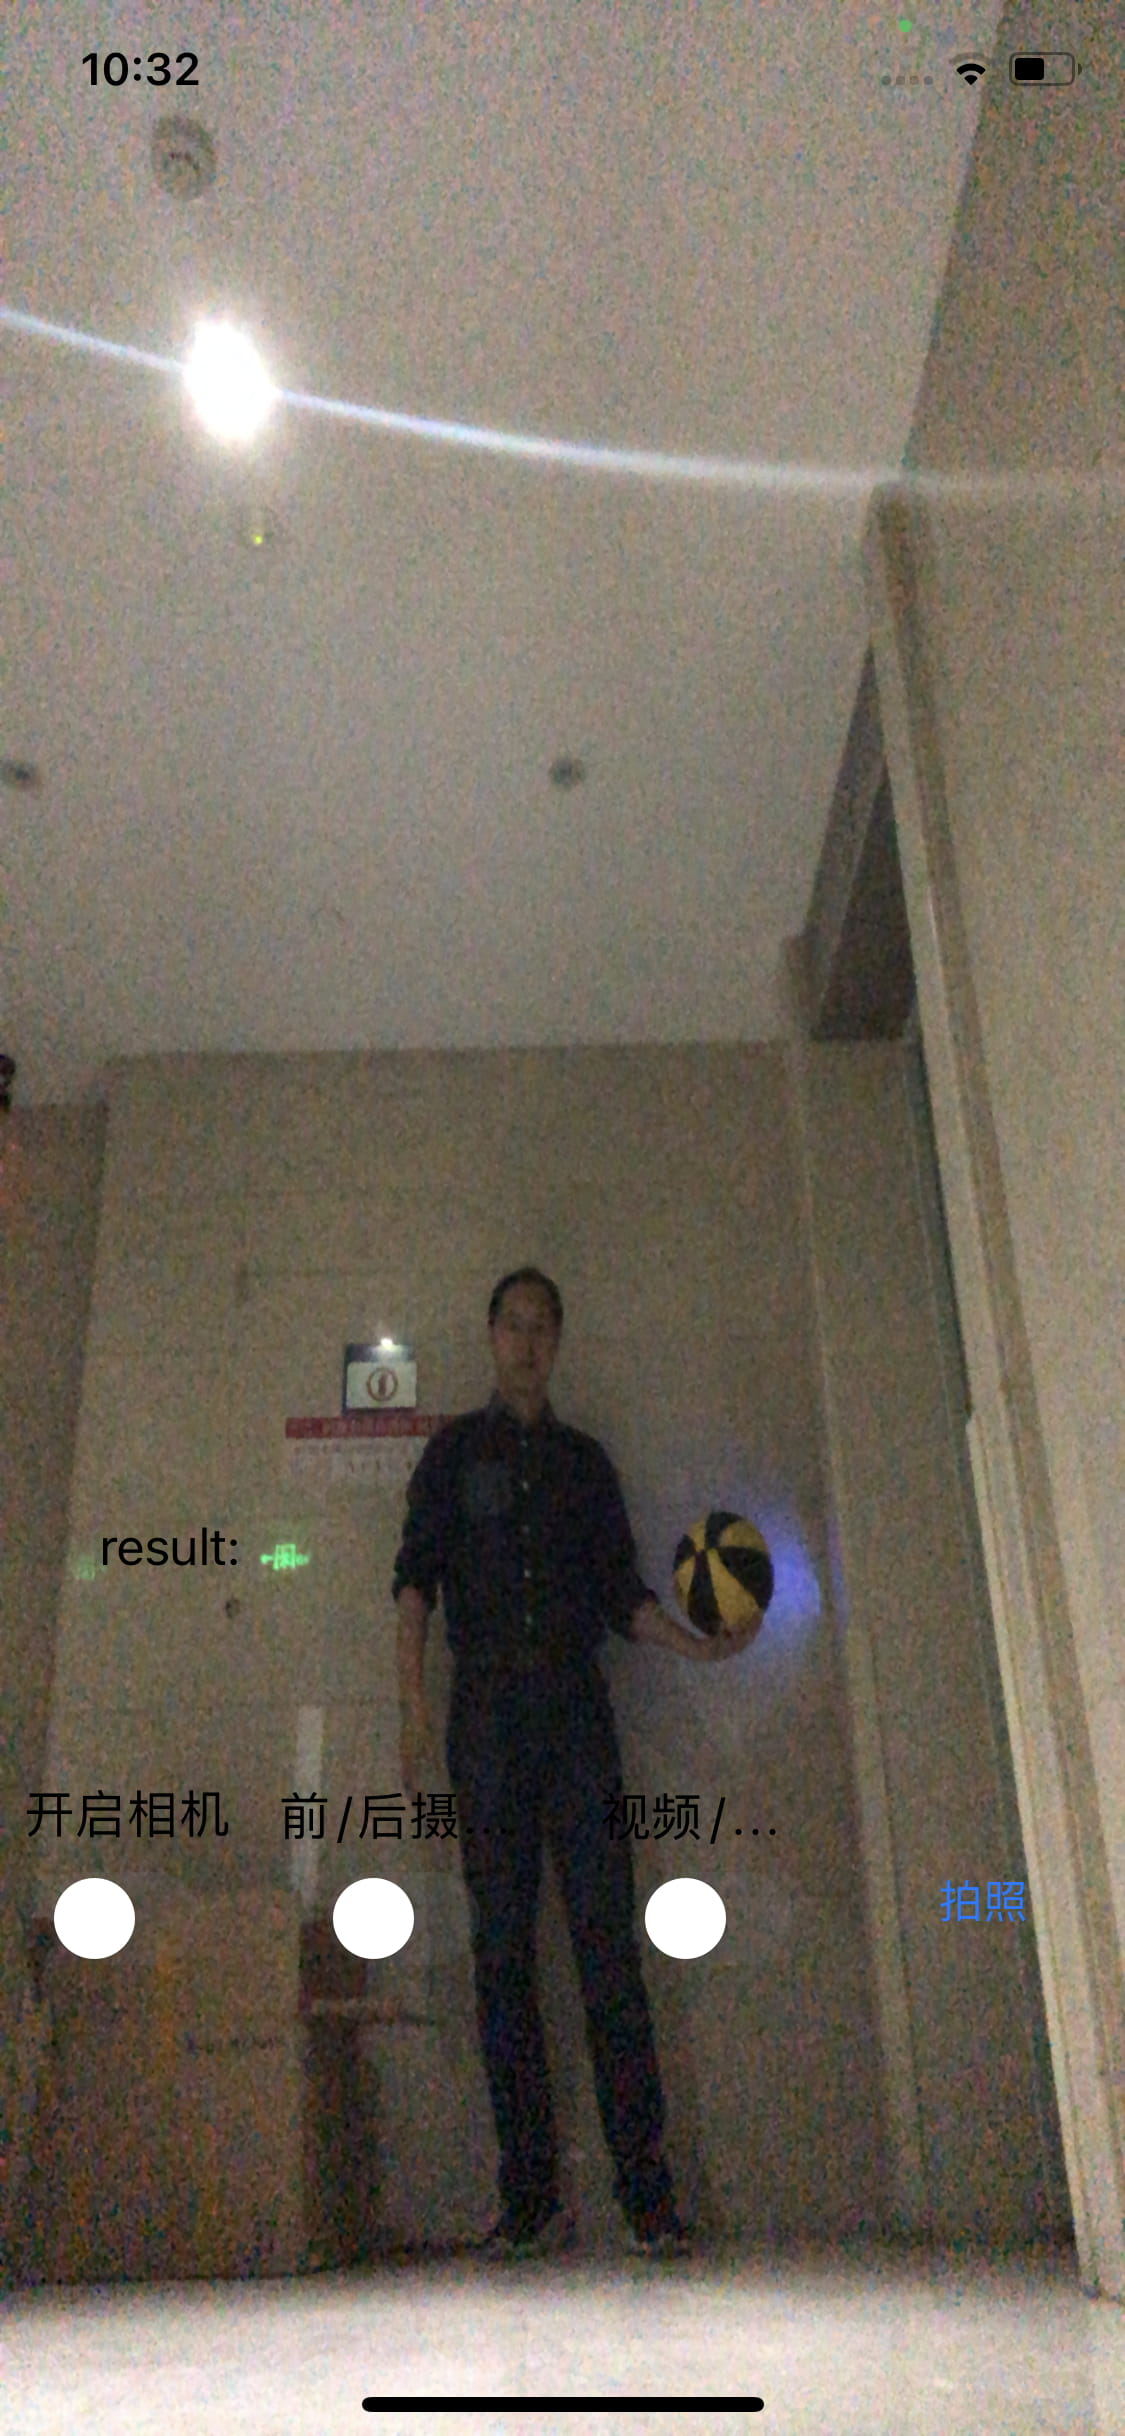ball: (670, 1509, 775, 1637)
